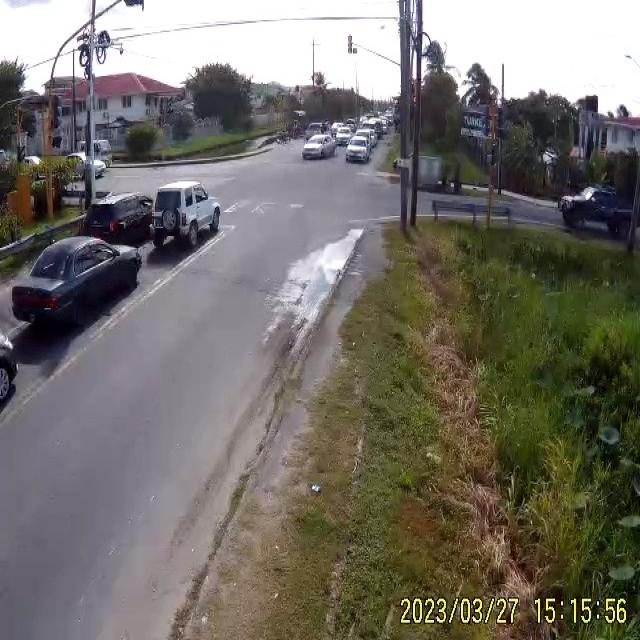car: (10, 236, 143, 332), (152, 181, 223, 246), (78, 191, 156, 249), (562, 188, 622, 234), (300, 136, 336, 162), (344, 139, 369, 164), (334, 127, 352, 145)
